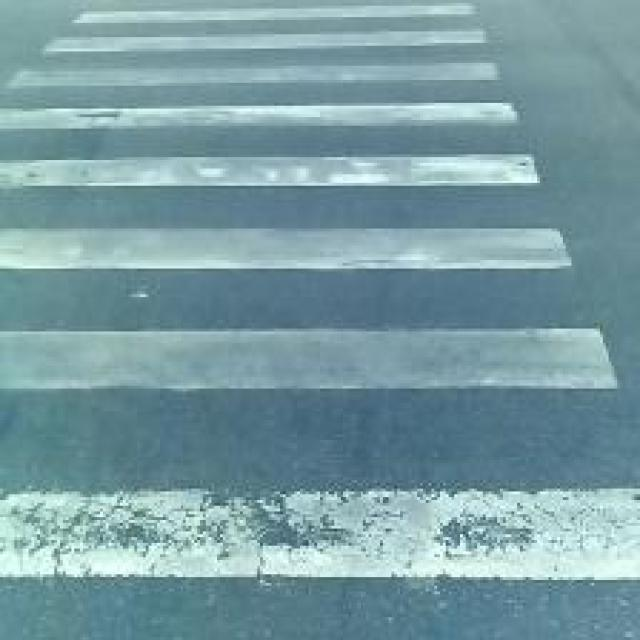crosswalk: (0, 0, 640, 590)
